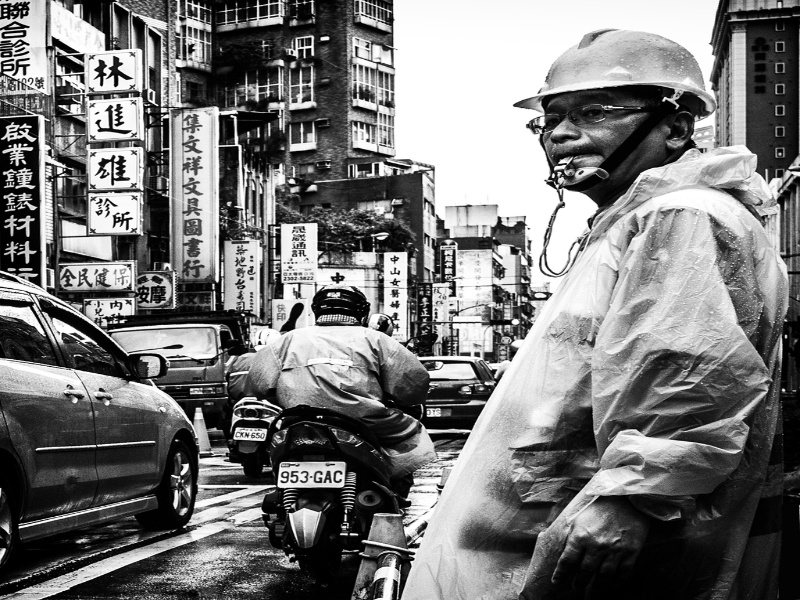helmet: (523, 29, 713, 109), (310, 284, 371, 316)
jacket: (531, 175, 800, 588), (271, 326, 414, 428)
